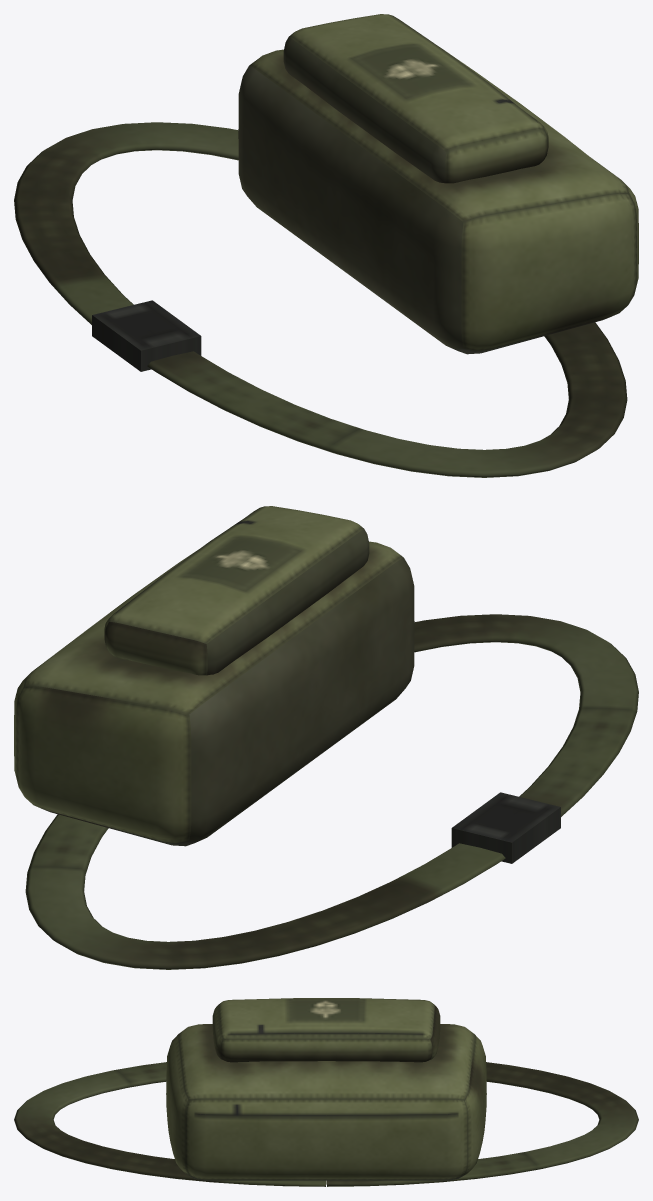
Rendered from OA_ResearchWaist_Ground.fbx.
The picture shows the model from 3 angles, top to bottom: view 1: azimuth 30°, elevation 25°; view 2: azimuth 150°, elevation 25°; view 3: azimuth 270°, elevation 25°; orthographic projection. The views are drawn at different scales.
Parts seen in each view (by area): view 1: OA_ResearchWaist_Ground; view 2: OA_ResearchWaist_Ground; view 3: OA_ResearchWaist_Ground.
Boxes of the visible parts, x1,y1,x2,y2 form: OA_ResearchWaist_Ground: (14, 14, 638, 477); OA_ResearchWaist_Ground: (14, 506, 638, 969); OA_ResearchWaist_Ground: (14, 998, 638, 1186).
Size of the model in its own units: 0.4986 by 0.2349 by 0.9194.
